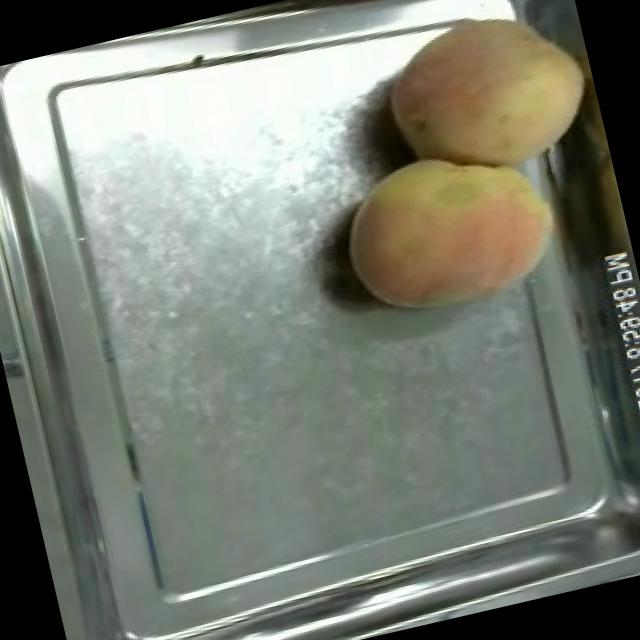Fruit: (318, 120, 576, 338), (359, 0, 610, 203)
